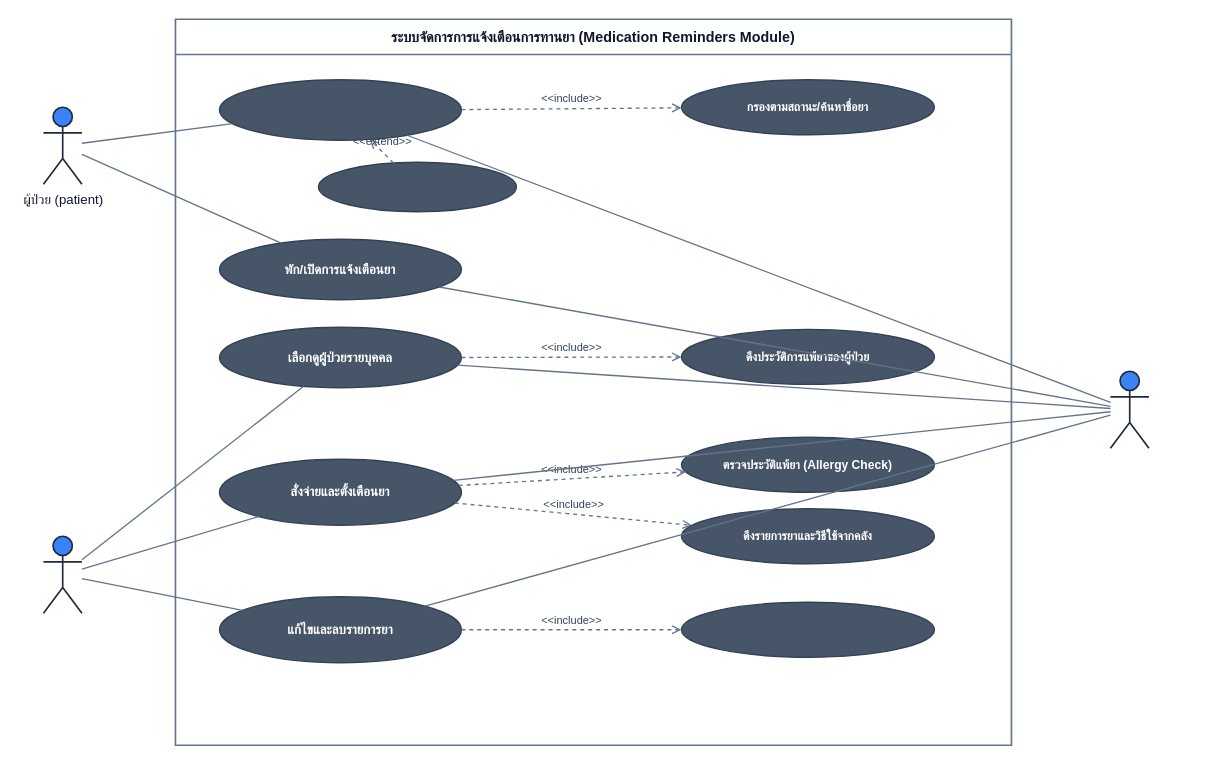
Some shapes in this 1210 by 766 pixel diagram are drawn without their labels. Each missing label, with the centre of its shape:
ดูรายการยาและรอบเวลา: the point at 340,109
ยืนยันการลบรายการยา: the point at 807,629
ส่งต่อไปยังหน้าผลตรวจ/ประวัติยา: the point at 417,186
เจ้าหน้าที่ (staff_admin): the point at 1129,409
แพทย์ (medical): the point at 62,574
